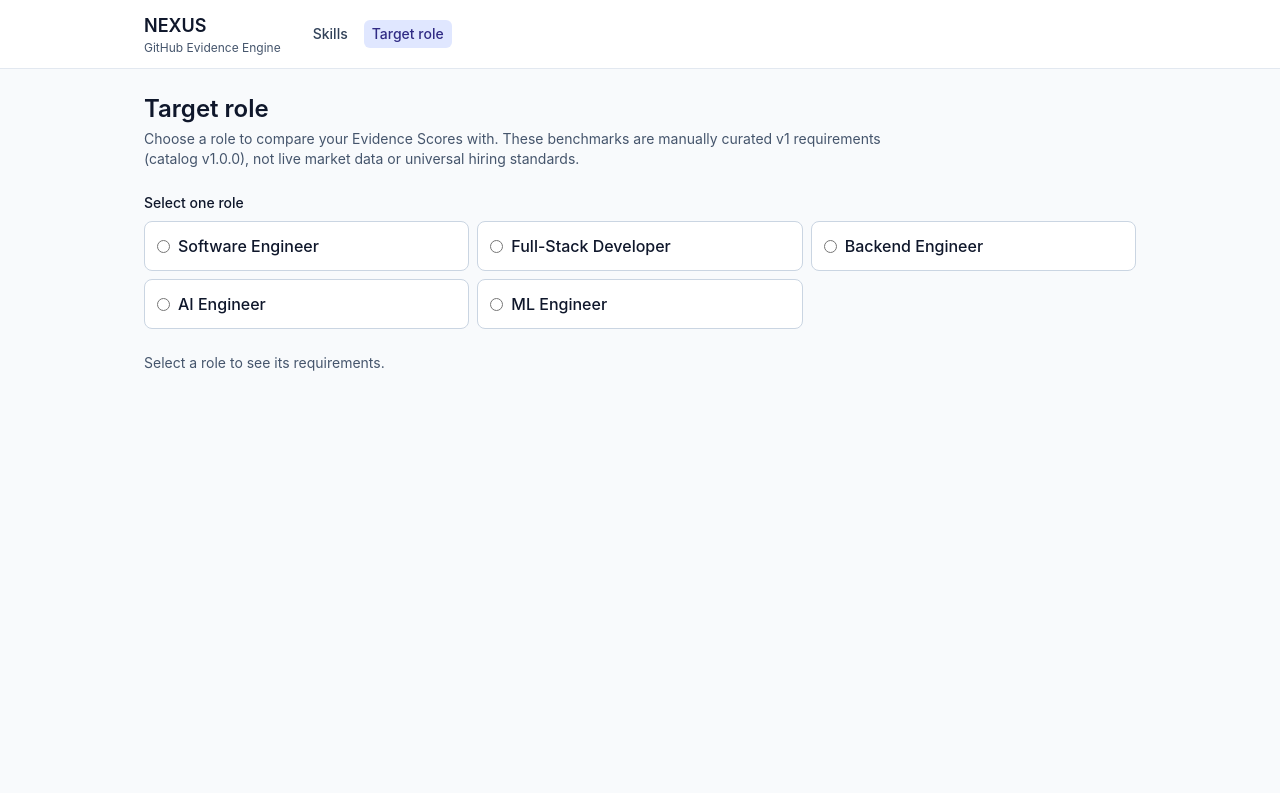
Test: role selection and gap analysis (real App, stubbed network) › clears the previous result when another role is selected
Expected: the text "Select one role" is shown, top-left (144, 193), bottom-right (244, 213)
Click the radio button labelled "AI Engineer". click: (164,304)
box: top-left (157, 298), bottom-right (170, 310)
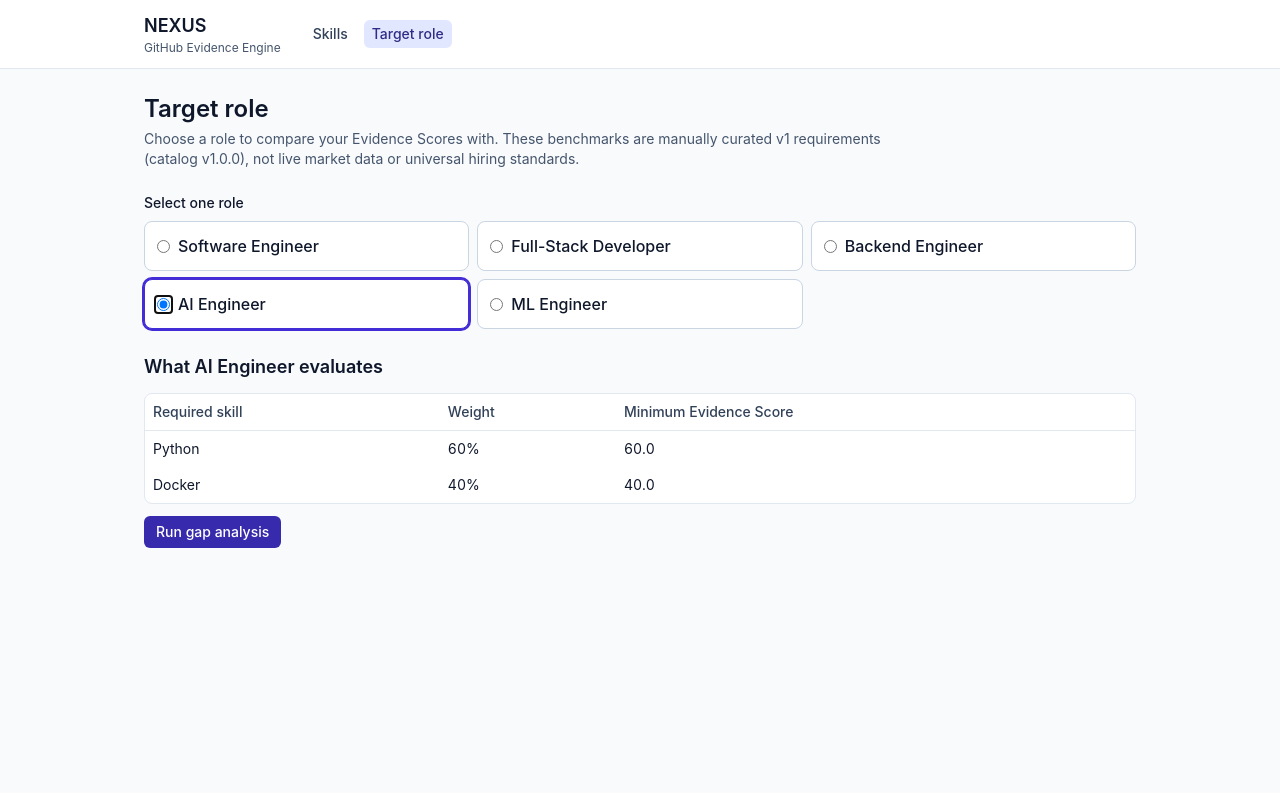
Click the button "Run gap analysis". click: (213,532)
box: top-left (144, 516), bottom-right (281, 548)
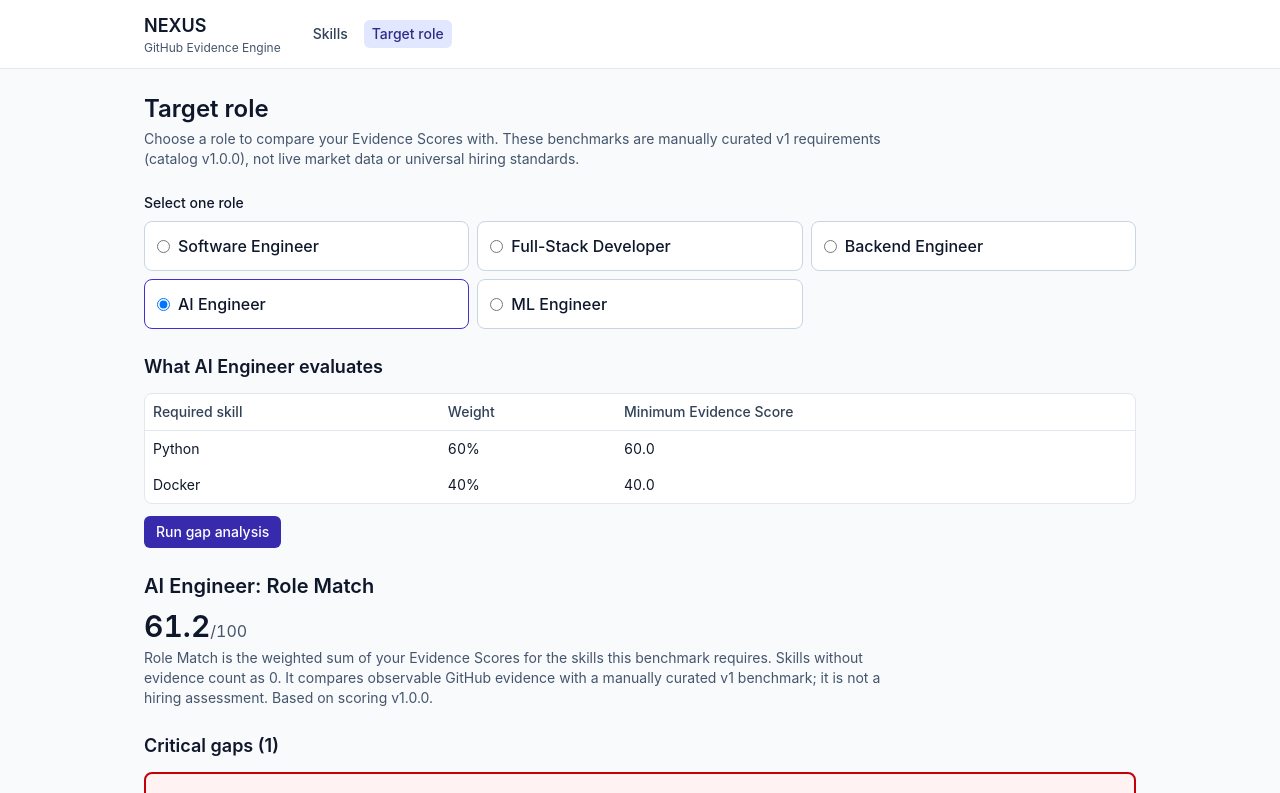
Result: the heading "AI Engineer: Role Match" is shown at top-left (144, 574), bottom-right (374, 598)
Click the radio button labelled "Backend Engineer". click: (830,246)
box: top-left (824, 240), bottom-right (837, 252)
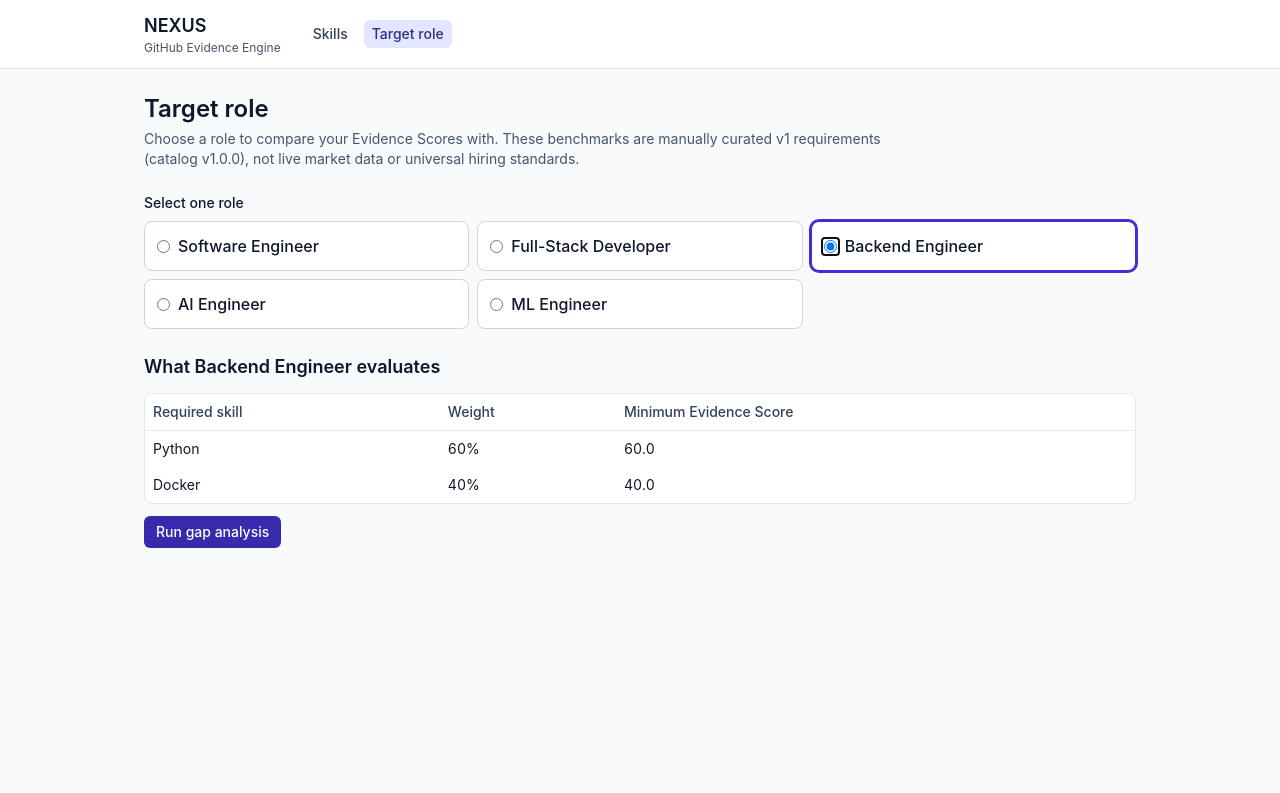
Result: the heading "AI Engineer: Role Match" is gone
